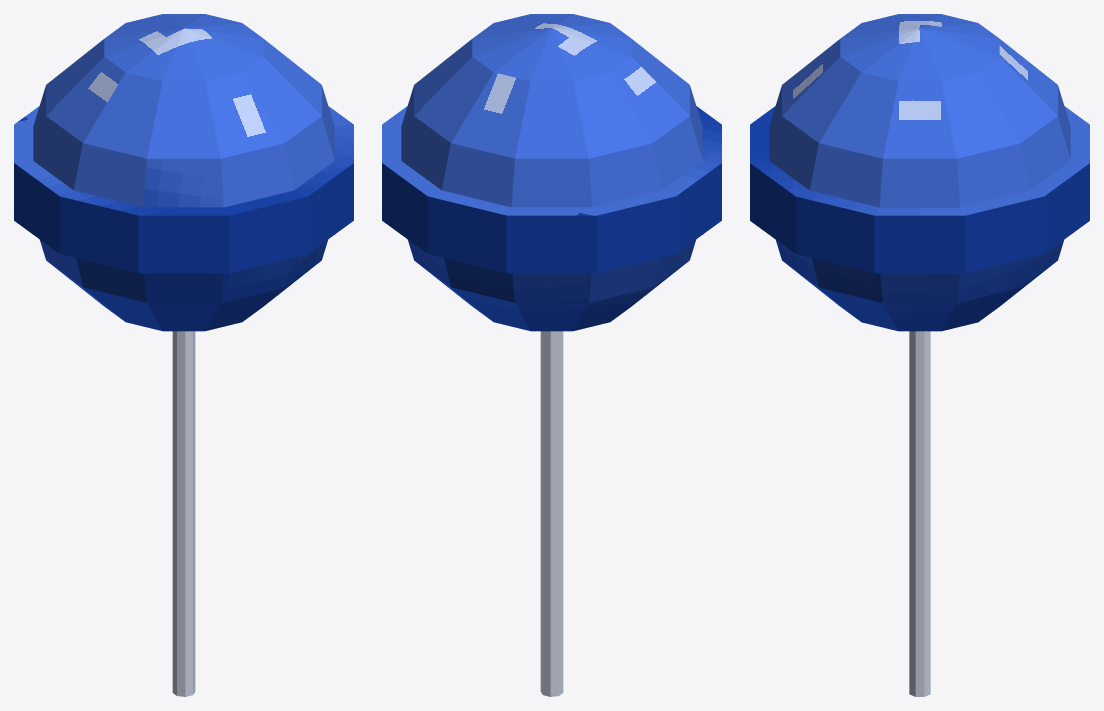
Rendered from Lolipop Blue.gltf.
3 views of the same model, side by side, from view 1: azimuth 30°, elevation 25°; view 2: azimuth 150°, elevation 25°; view 3: azimuth 270°, elevation 25° (orthographic).
Visible parts, largest first — view 1: sphere, cylinder (×2); view 2: sphere, cylinder (×2); view 3: sphere, cylinder (×2).
Part boxes in pixels (x1,y1,x2,y2): sphere: [33, 14, 334, 331]; cylinder (×2): [14, 106, 353, 696]; sphere: [401, 14, 702, 331]; cylinder (×2): [382, 106, 721, 696]; sphere: [769, 14, 1070, 331]; cylinder (×2): [750, 106, 1089, 696].
Size of the model in its own units: 1 by 2.16 by 1.
3 materials, 3 textured.
